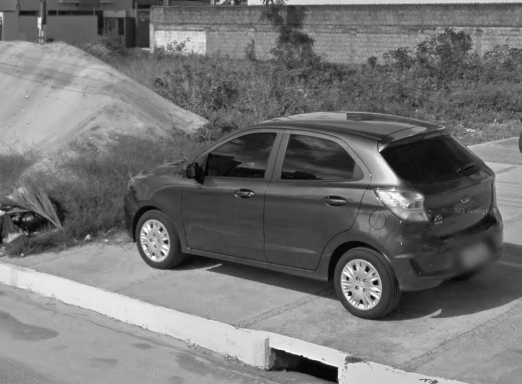car: (121, 104, 507, 321)
